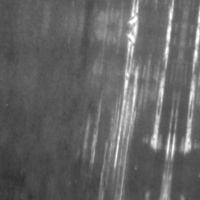scratches: (100, 28, 146, 192), (142, 32, 175, 153)
